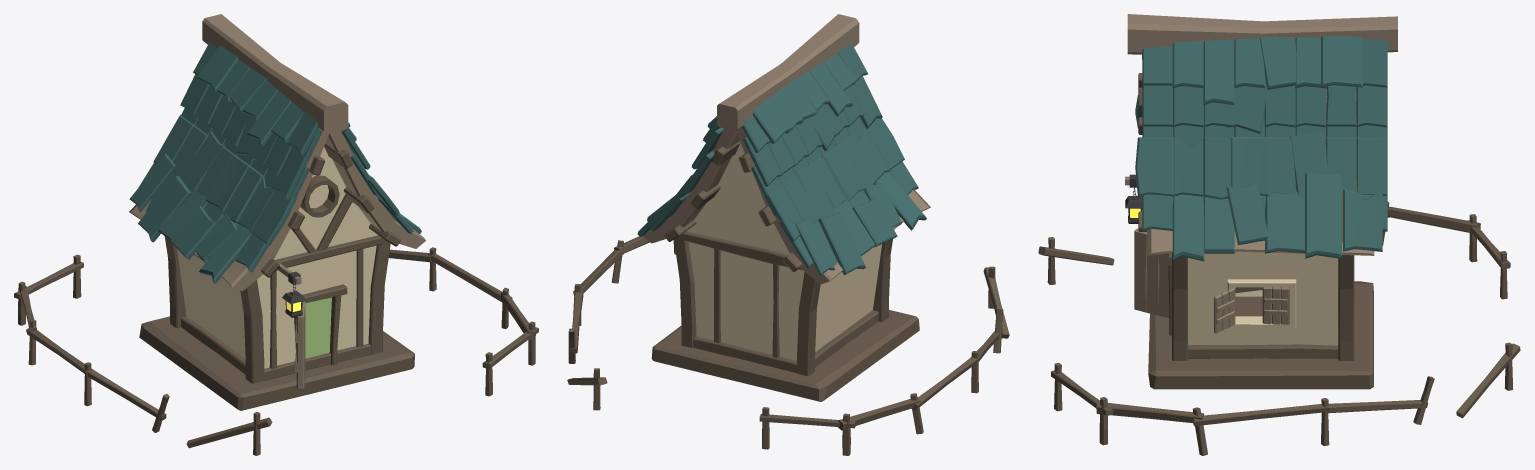
Rendered from Forest_hut_w_interior.fbx.
3 views of the same model, side by side, from view 1: azimuth 30°, elevation 25°; view 2: azimuth 150°, elevation 25°; view 3: azimuth 270°, elevation 25° (orthographic). The views are drawn at different scales.
Parts seen in each view (by area): view 1: Cabin_walls, Cabin_floor, Roof_stick, Hole_in_cabbin_wall, Cabin_in_the_Woods_:cube313, Cabin_in_the_Woods_:cube3132, Cabin_in_the_Woods_:cube321, Cabin_in_the_Woods_:cube32, pCube1, Cabin_in_the_Woods_:cube3155111, Cabin_in_the_Woods_:cube315101, Cabin_in_the_Woods_:cube315141 (+40 smaller); view 2: Cabin_walls, Cabin_floor, Hole_in_cabbin_wall, Roof_stick, Cabin_in_the_Woods_:cube313, Cabin_in_the_Woods_:cube33, Cabin_in_the_Woods_:cube3, Cabin_in_the_Woods_:cube3155111, Cabin_in_the_Woods_:cube3112111, Cabin_in_the_Woods_:cube311215, Cabin_in_the_Woods_:cube3132, Cabin_in_the_Woods_:cube315331 (+37 smaller); view 3: Cabin_floor, Hole_in_cabbin_wall, Roof_stick, Cabin_walls, Cabin_in_the_Woods_:cube315642, Cabin_in_the_Woods_:cube315132, Cabin_in_the_Woods_:cube31544, Cabin_in_the_Woods_:cube31510, Cabin_in_the_Woods_:cube31121121, Cabin_in_the_Woods_:cube3156, Cabin_in_the_Woods_:cube31514, Cabin_in_the_Woods_:cube3152 (+39 smaller).
Boxes of the visible parts, x1=… form: Cabin_walls: x1=177, y1=146, x2=377, y2=368; Cabin_floor: x1=139, y1=316, x2=414, y2=410; Roof_stick: x1=202, y1=14, x2=348, y2=134; Hole_in_cabbin_wall: x1=188, y1=153, x2=365, y2=367; Cabin_in_the_Woods_:cube313: x1=325, y1=131, x2=425, y2=248; Cabin_in_the_Woods_:cube3132: x1=129, y1=132, x2=328, y2=291; Cabin_in_the_Woods_:cube321: x1=240, y1=280, x2=264, y2=383; Cabin_in_the_Woods_:cube32: x1=368, y1=235, x2=390, y2=354; pCube1: x1=305, y1=297, x2=331, y2=358; Cabin_in_the_Woods_:cube3155111: x1=138, y1=175, x2=191, y2=242; Cabin_in_the_Woods_:cube315101: x1=251, y1=189, x2=296, y2=245; Cabin_in_the_Woods_:cube315141: x1=199, y1=224, x2=251, y2=283; Cabin_walls: x1=687, y1=140, x2=881, y2=359; Cabin_floor: x1=651, y1=310, x2=919, y2=401; Hole_in_cabbin_wall: x1=748, y1=196, x2=880, y2=360; Roof_stick: x1=717, y1=14, x2=859, y2=131; Cabin_in_the_Woods_:cube313: x1=643, y1=128, x2=739, y2=243; Cabin_in_the_Woods_:cube33: x1=797, y1=272, x2=820, y2=376; Cabin_in_the_Woods_:cube3: x1=674, y1=231, x2=696, y2=347; Cabin_in_the_Woods_:cube3155111: x1=818, y1=212, x2=865, y2=275; Cabin_in_the_Woods_:cube3112111: x1=693, y1=336, x2=797, y2=373; Cabin_in_the_Woods_:cube311215: x1=682, y1=231, x2=801, y2=269; Cabin_in_the_Woods_:cube3132: x1=736, y1=127, x2=930, y2=284; Cabin_in_the_Woods_:cube315331: x1=821, y1=143, x2=865, y2=201; Cabin_floor: x1=1148, y1=281, x2=1373, y2=389; Hole_in_cabbin_wall: x1=1188, y1=252, x2=1338, y2=345; Roof_stick: x1=1127, y1=14, x2=1397, y2=54; Cabin_walls: x1=1188, y1=251, x2=1327, y2=328; Cabin_in_the_Woods_:cube315642: x1=1305, y1=172, x2=1341, y2=258; Cabin_in_the_Woods_:cube315132: x1=1343, y1=189, x2=1382, y2=251; Cabin_in_the_Woods_:cube31544: x1=1265, y1=191, x2=1305, y2=253; Cabin_in_the_Woods_:cube31510: x1=1135, y1=137, x2=1174, y2=197; Cabin_in_the_Woods_:cube31121121: x1=1188, y1=344, x2=1338, y2=358; Cabin_in_the_Woods_:cube3156: x1=1321, y1=35, x2=1362, y2=87; Cabin_in_the_Woods_:cube31514: x1=1172, y1=194, x2=1204, y2=261; Cabin_in_the_Woods_:cube3152: x1=1203, y1=39, x2=1234, y2=105.
Bounding box in the file's own units: 14.83 × 10.6 × 14.1.
